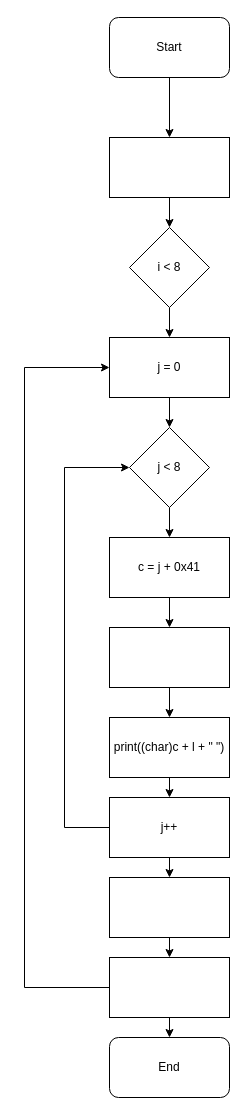
Some shapes in this 247 by 1115 pixel diagram are drawn without their labels. Each missing label, with the centre of its shape:
i = 0: [169,167]
i++: [169,987]
l = 8 - i: [169,657]
print("\n"): [169,907]
